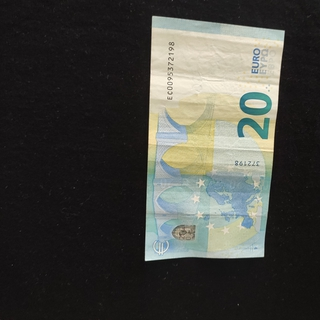20EUROBack: (144, 15, 285, 261)
